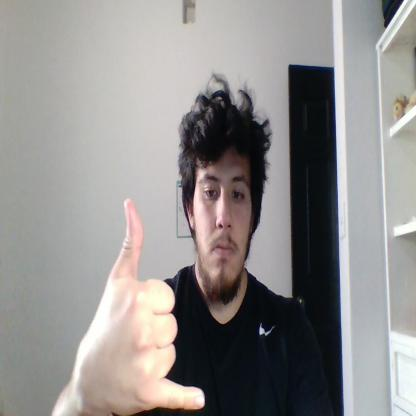Y: (94, 199, 204, 416)
